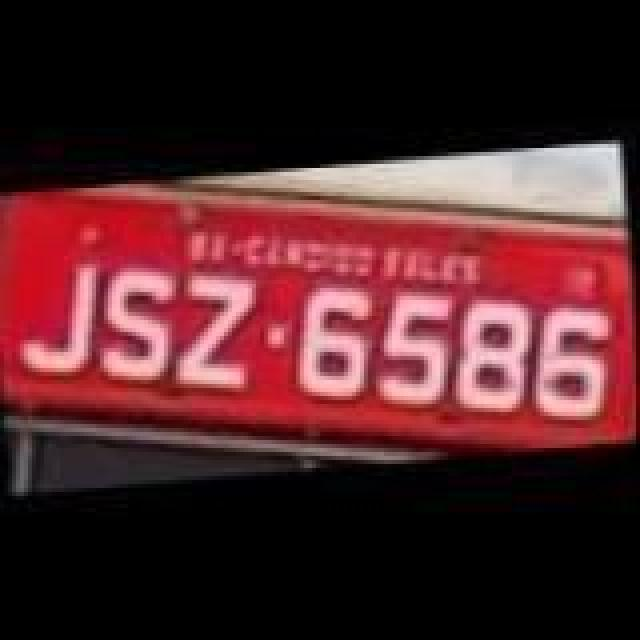5: (366, 288, 462, 412)
6: (522, 302, 626, 426), (290, 282, 386, 406)
8: (450, 290, 538, 422)
J: (4, 254, 112, 386)
S: (96, 260, 188, 388)
Z: (158, 276, 270, 400)
